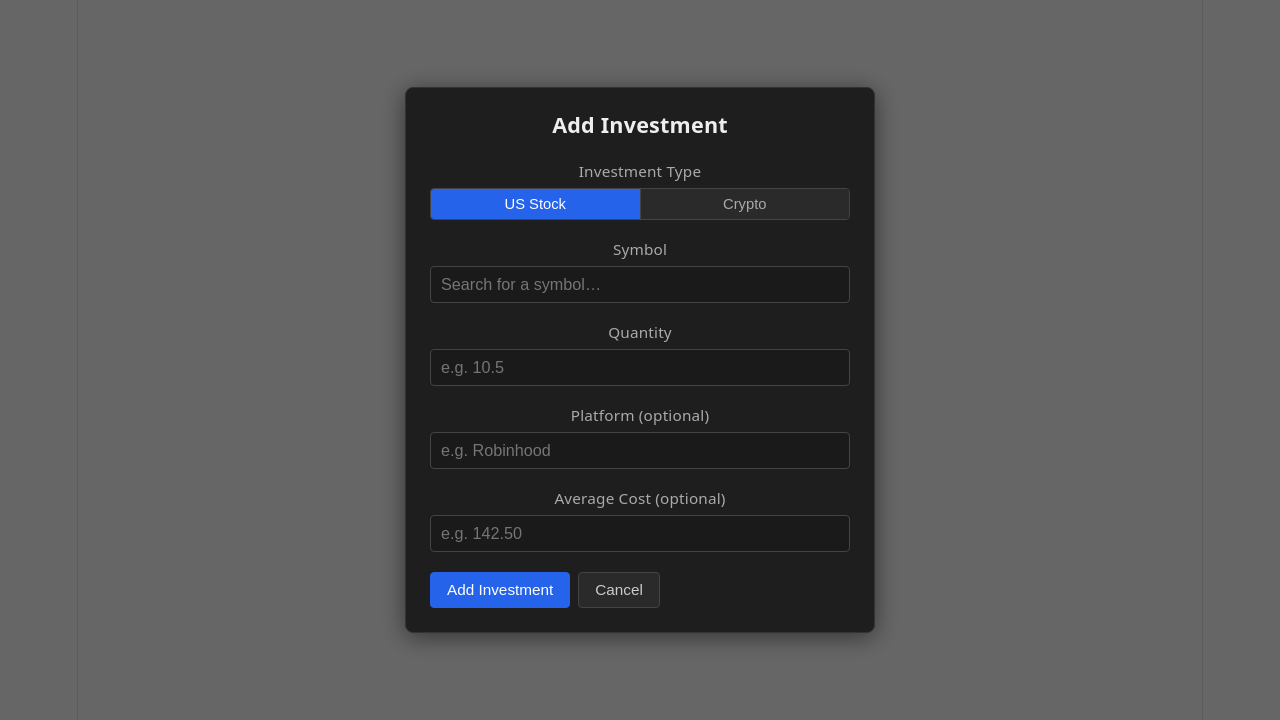
Test case: AddStockForm › Validation error display (Req 8.3) › shows error when quantity is empty
This screenshot has width=1280, height=720.
Type "AAPL" into the field labelled "Symbol". click: [640, 284]
box: top-left (430, 266), bottom-right (850, 303)
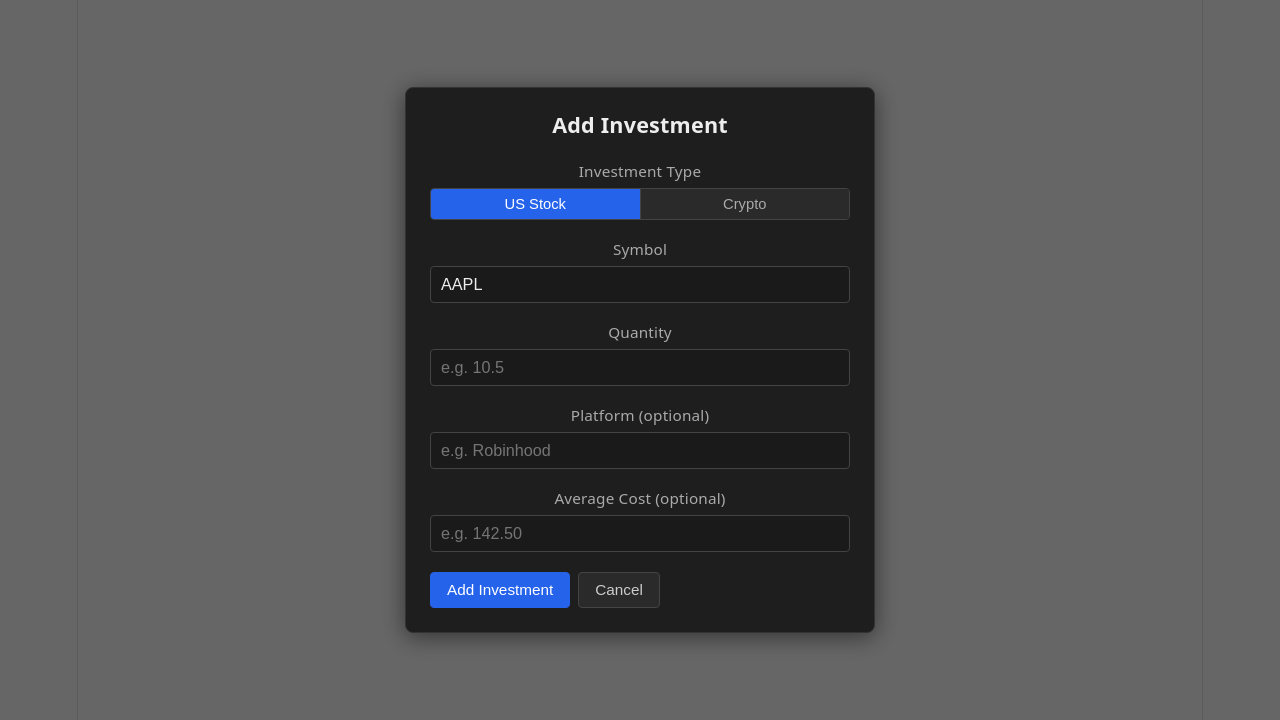
Click the button "Add Investment". click: [500, 590]
box: top-left (430, 572), bottom-right (570, 608)
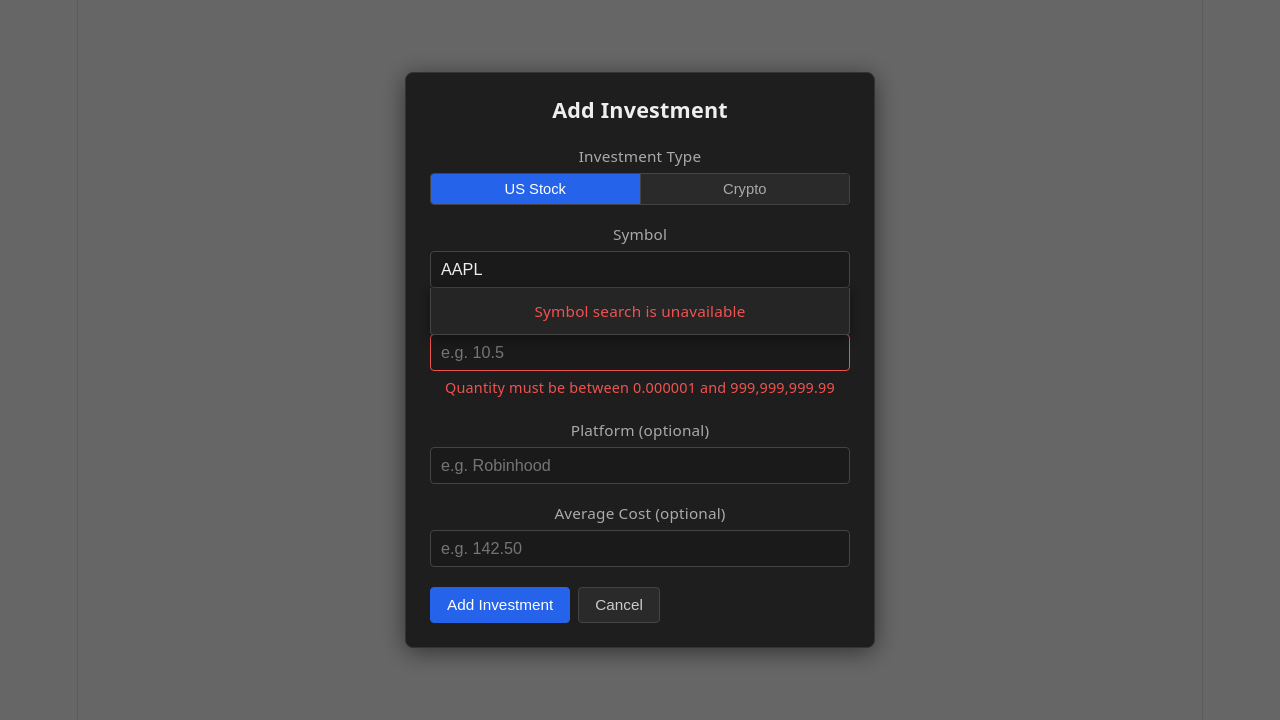
Expected: the text "Quantity must be between 0.000001 and 999,999,999.99" is shown, top-left (430, 375), bottom-right (850, 401)
